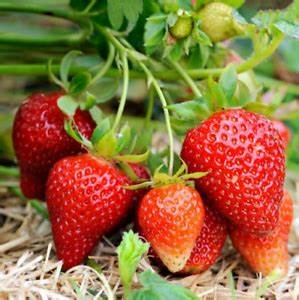Fresa: (178, 100, 292, 241), (39, 145, 141, 279), (9, 86, 101, 206), (131, 176, 211, 279)
